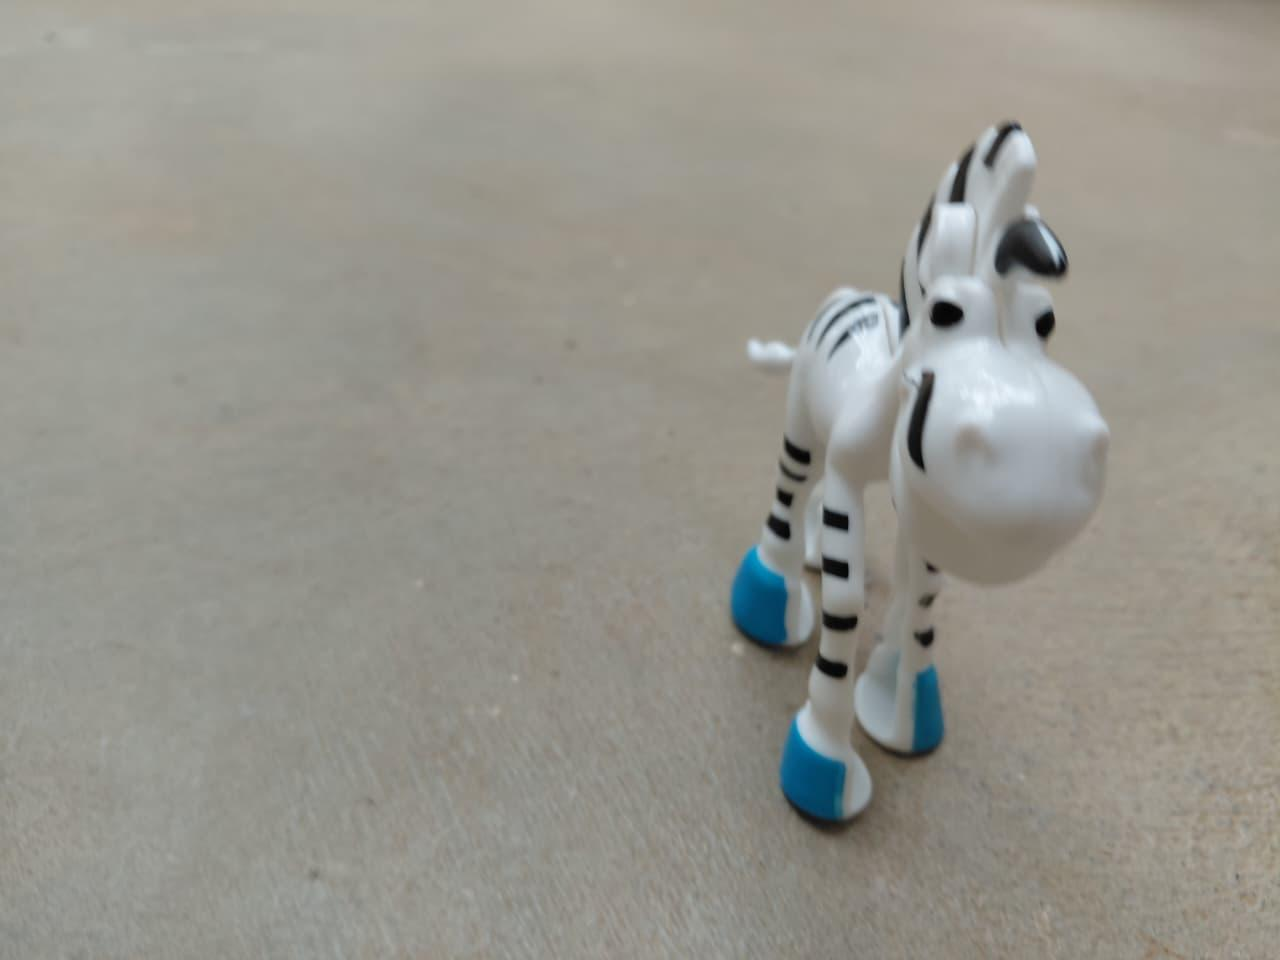zebra: (718, 107, 1122, 834)
